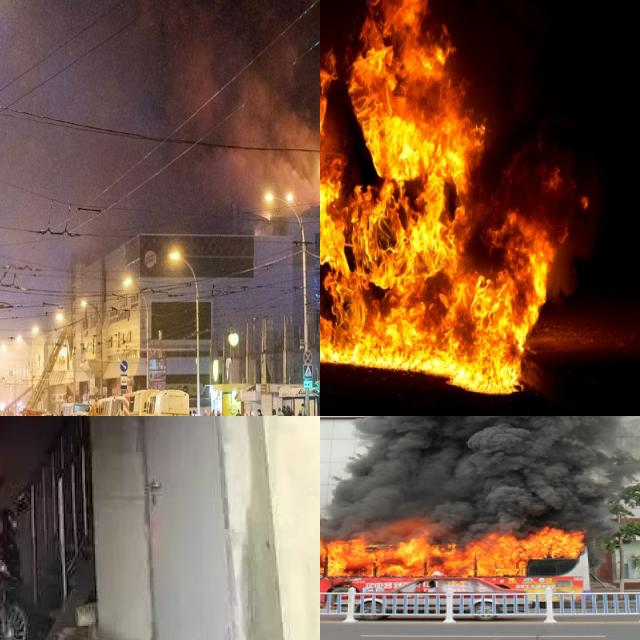fire: (320, 0, 566, 394), (320, 521, 590, 589)
smoke: (0, 0, 320, 194), (320, 416, 640, 518)
